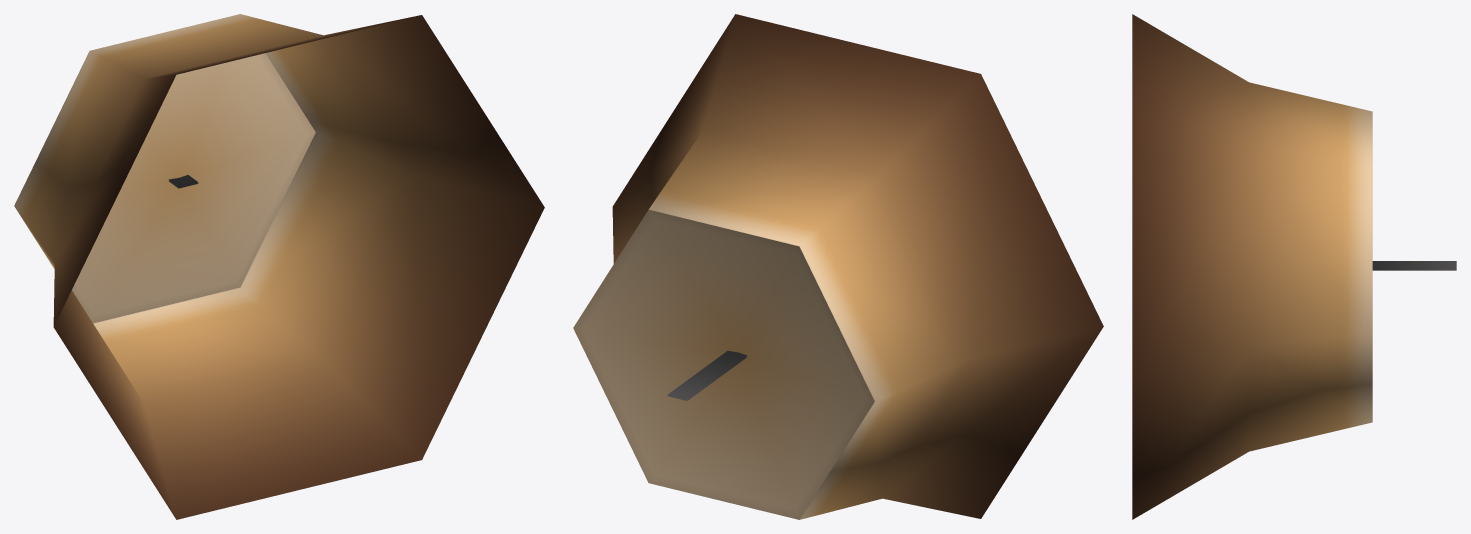
File: Candle_D.fbx
3 views of the same model, side by side, from view 1: azimuth 30°, elevation 25°; view 2: azimuth 150°, elevation 25°; view 3: azimuth 270°, elevation 25° (orthographic). The views are drawn at different scales.
Parts seen in each view (by area): view 1: Candle_D; view 2: Candle_D; view 3: Candle_D.
Boxes of the visible parts, x1,y1,x2,y2 form: Candle_D: [14, 14, 544, 519]; Candle_D: [573, 14, 1103, 519]; Candle_D: [1132, 14, 1456, 519].
Bounding box in the file's own units: 0.327 × 0.2832 × 0.2088.
